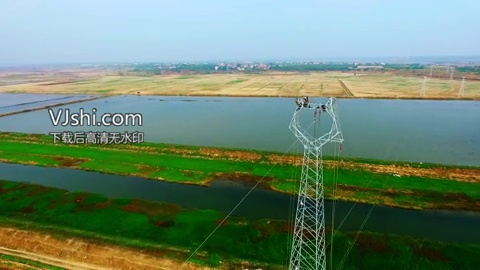tower_body: (281, 91, 348, 270)
tower_foot: (288, 240, 328, 270)
tower_head: (285, 95, 345, 150)
